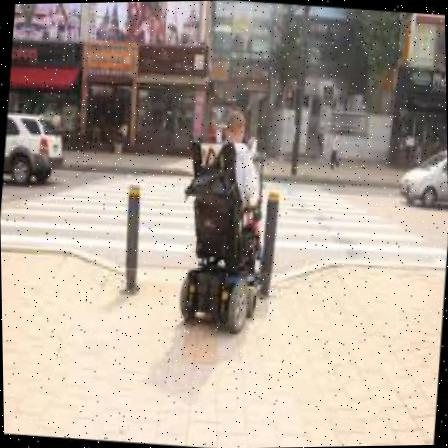wheel: (174, 106, 276, 334)
